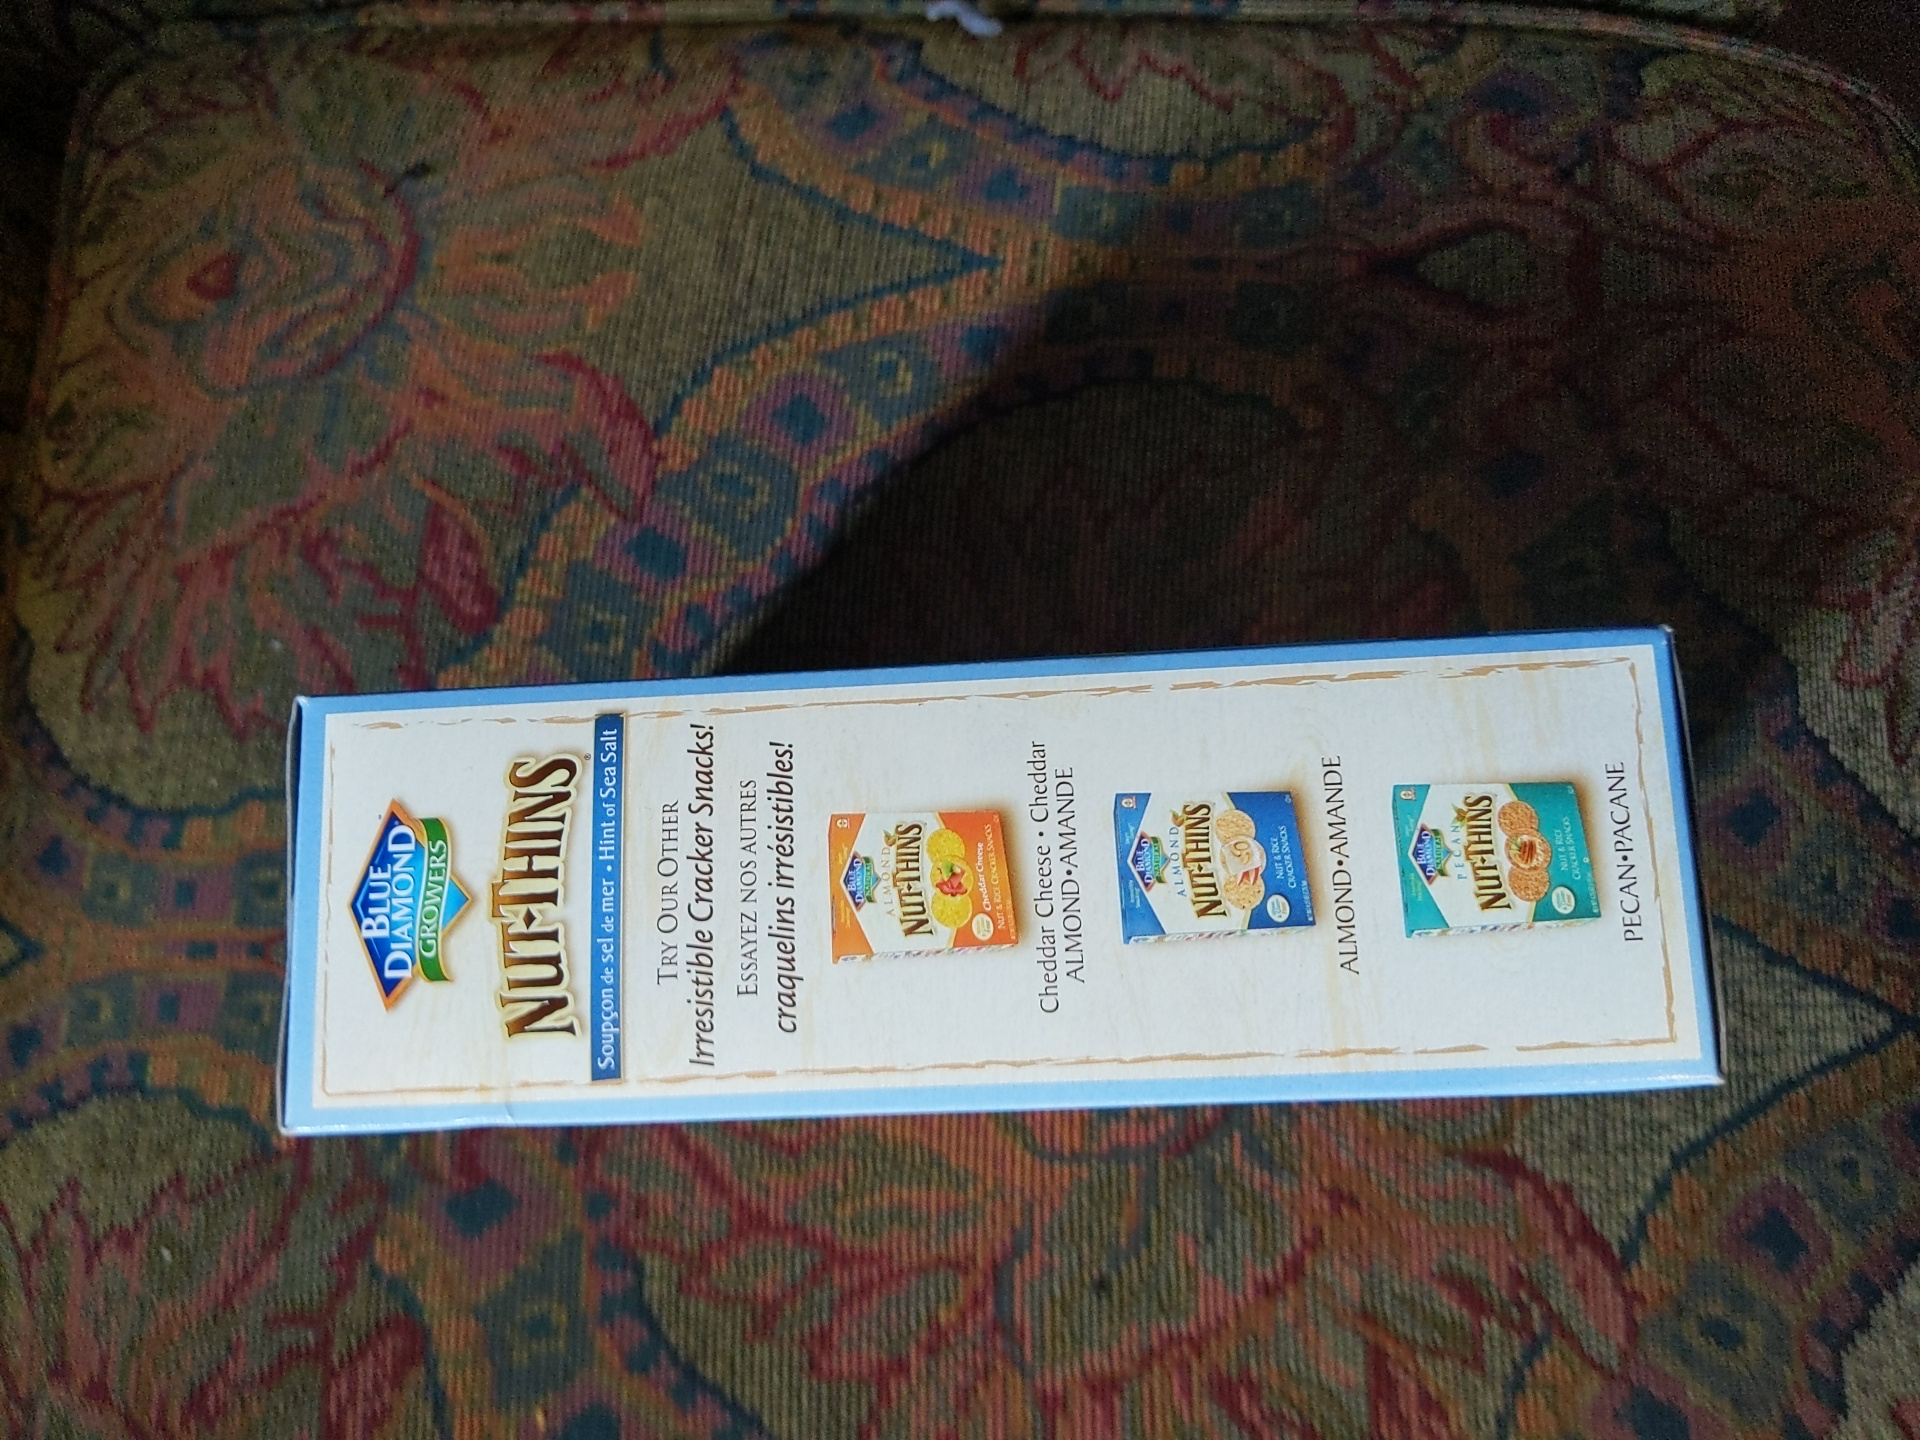blue_diamond_nut_thins_almond_seasalt: (284, 655, 1684, 1113)
